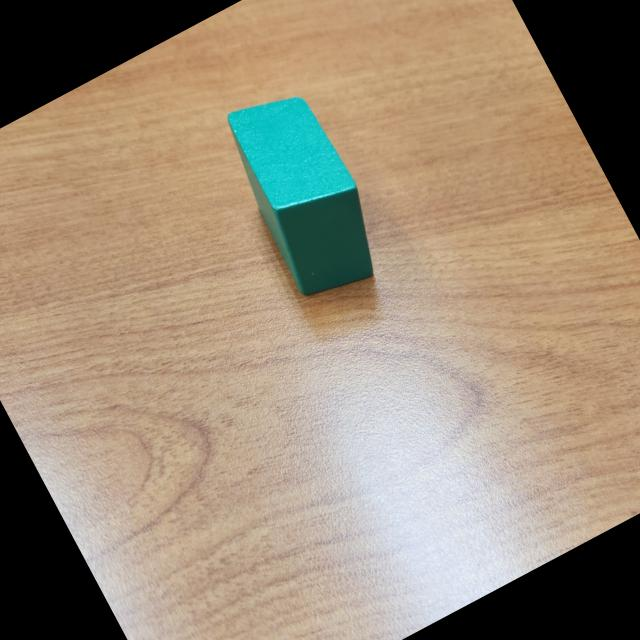green: (210, 75, 398, 310)
